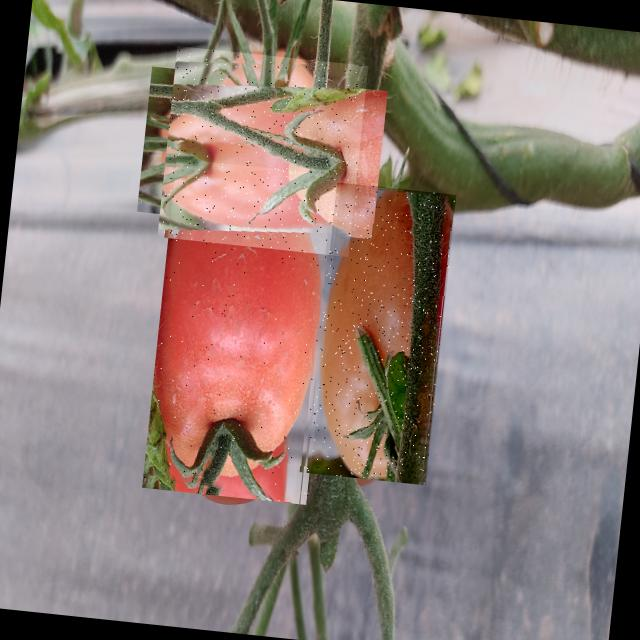Ripe Tomato: (142, 158, 342, 505), (306, 182, 456, 485), (157, 45, 368, 256)
